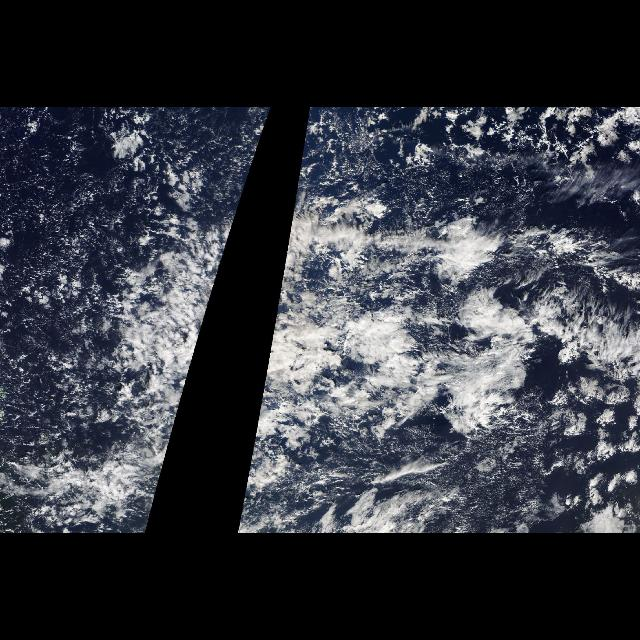Fish: (260, 192, 638, 396), (176, 192, 244, 396)
Flower: (543, 369, 639, 529)
Gravel: (3, 108, 138, 456)
Sugar: (5, 117, 141, 441), (398, 440, 560, 530)
